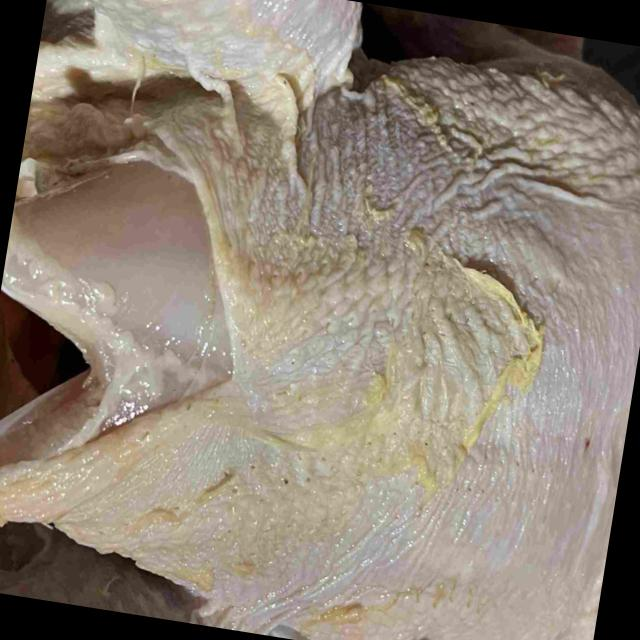breast: (0, 65, 640, 640)
neck: (540, 537, 610, 640)
wing: (360, 3, 591, 65)
